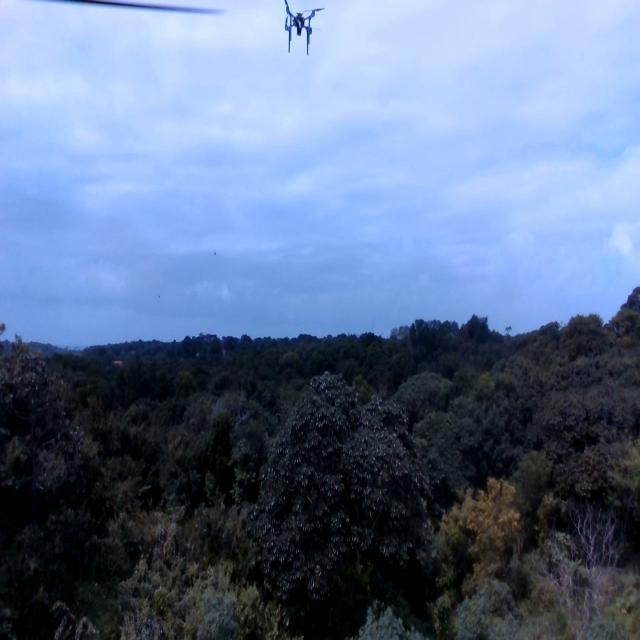-uav-: (276, 0, 330, 62)
